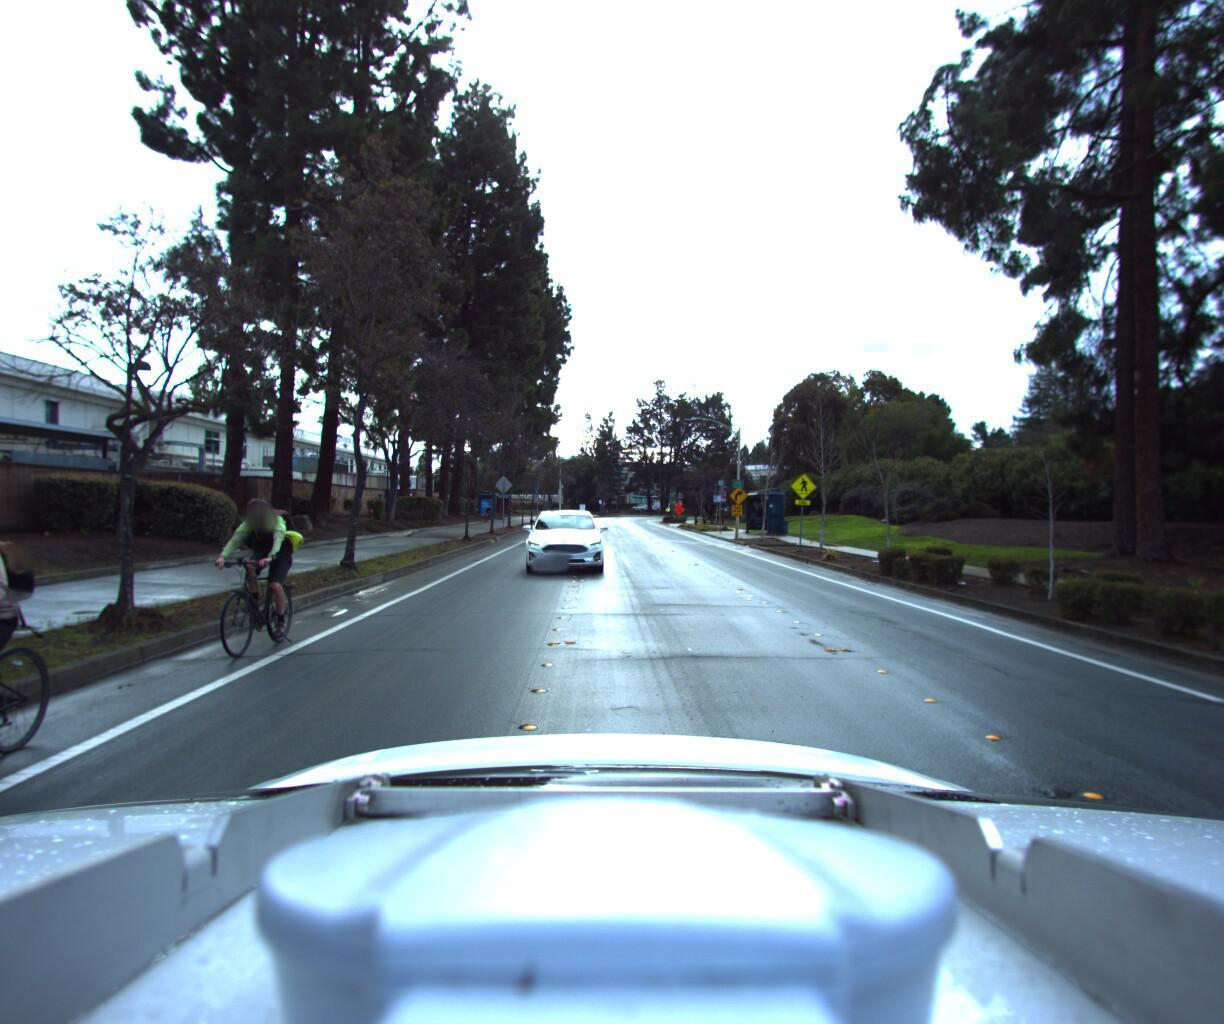bicycle: (0, 477, 91, 843), (164, 484, 325, 665)
car: (524, 509, 612, 577), (529, 508, 576, 545)
